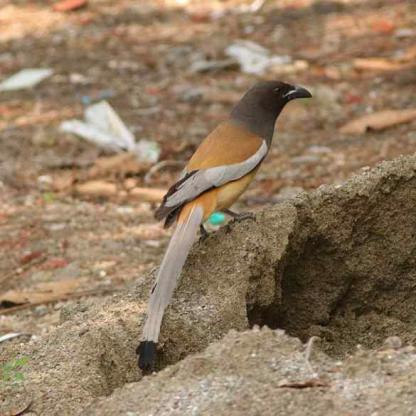Burung: (134, 79, 312, 367)
